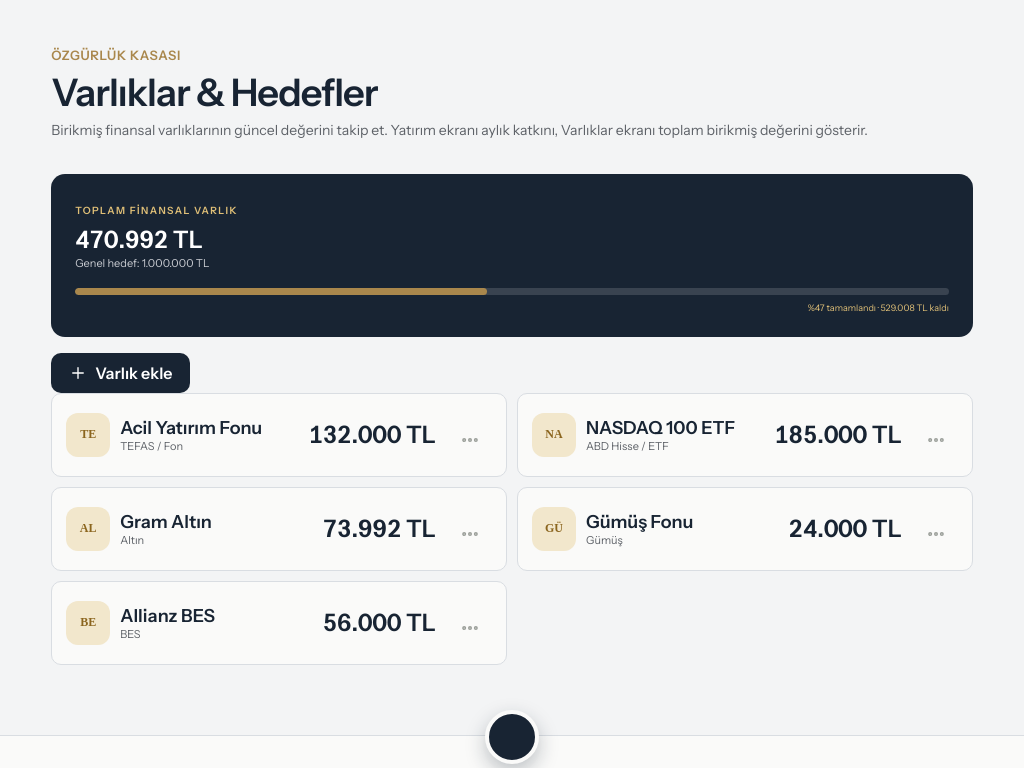
it: UX polish pack › asset card has overflow menu with detail, edit, and delete actions
Click the button named "Varlık işlemleri" next to "132.000 TL": (470, 440) 448,418 -> 492,462
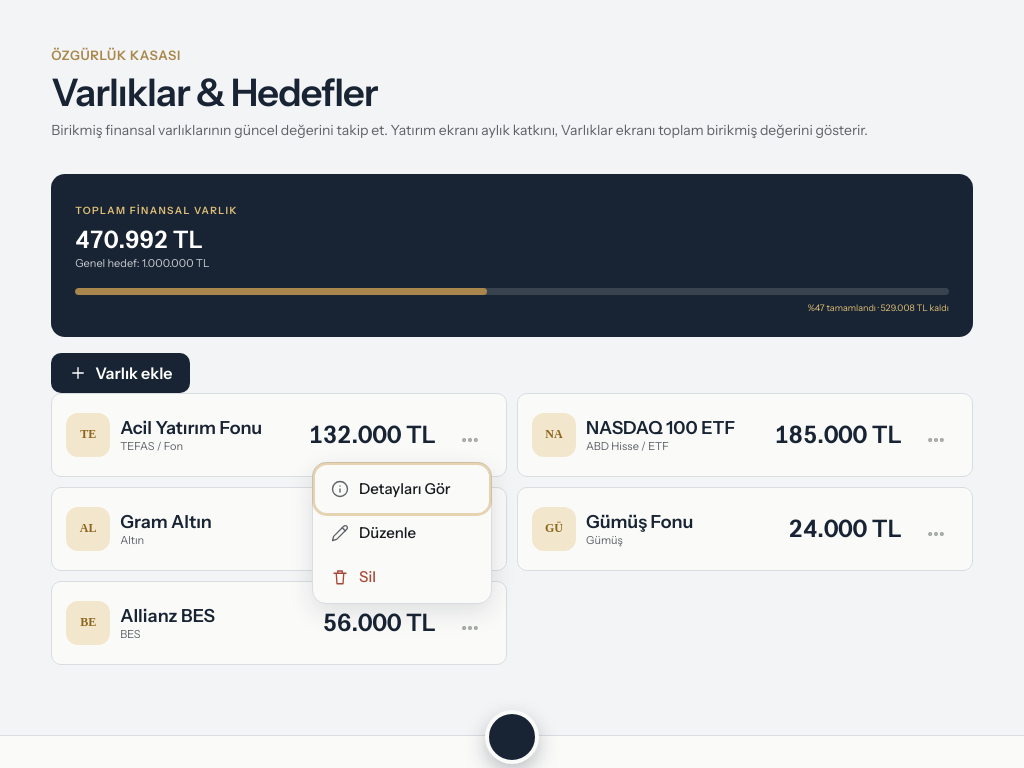
Expected: the menu item "Detayları Gör" is shown, 317,467 -> 487,511
Expected: the menu item "Düzenle" is shown, 317,511 -> 487,555
Expected: the menu item "Sil" is shown, 317,555 -> 487,599
